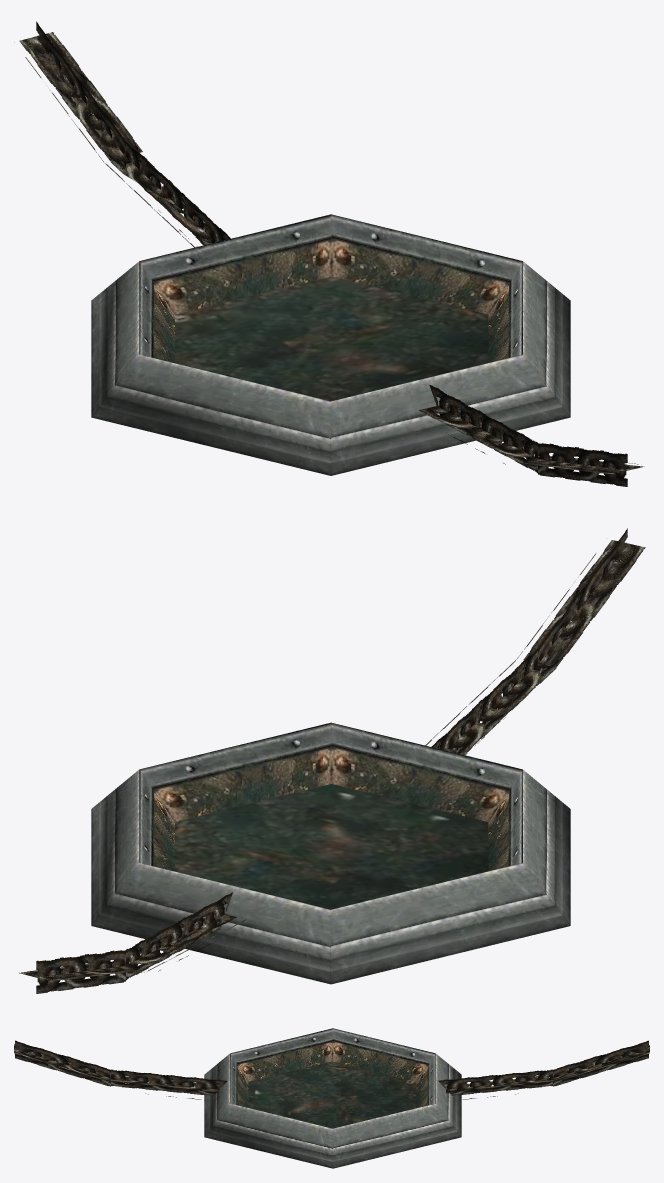
Rendered from ORC_FIREPLACE_V4.glb.
3 views of the same model, one above another, from view 1: azimuth 30°, elevation 25°; view 2: azimuth 150°, elevation 25°; view 3: azimuth 270°, elevation 25° (orthographic). The views are drawn at different scales.
Parts seen in each view (by area): view 1: Mesh; view 2: Mesh; view 3: Mesh.
Boxes of the visible parts, bbox=[...] form: Mesh: bbox=[14, 21, 644, 486]; Mesh: bbox=[19, 528, 645, 993]; Mesh: bbox=[14, 1028, 649, 1168].
Size of the model in its own units: 1.14 by 0.5136 by 2.45.
Materials: 2 (2 with a texture image).
